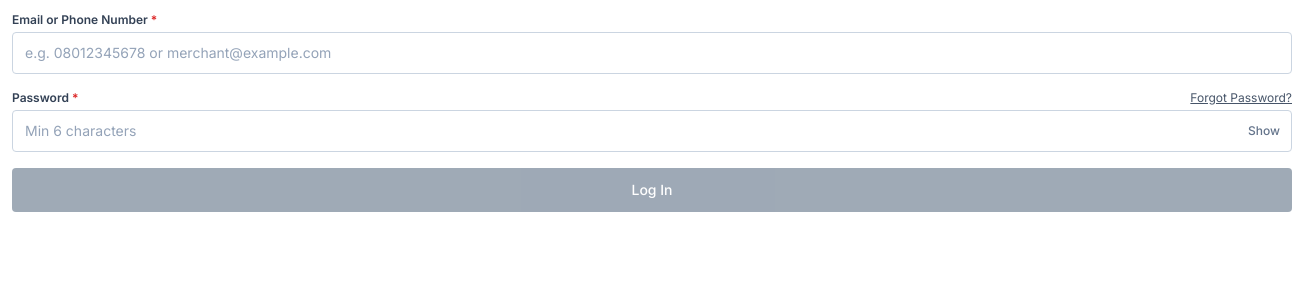
Test: Vendor Login Flow Components › Login Submission & Storage › rejects login when the backend endpoint fails
The image size is (1304, 287).
Type "07099887766" into the field labelled "Email or Phone Number *" at {"x": 652, "y": 53}, box [12,32,1292,74]
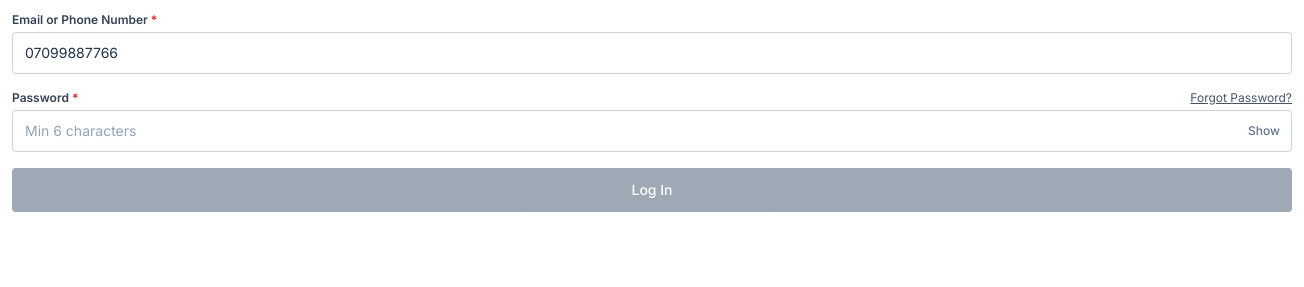
Type "password123" into the password field labelled "Password *" at {"x": 652, "y": 131}, box [12,110,1292,152]
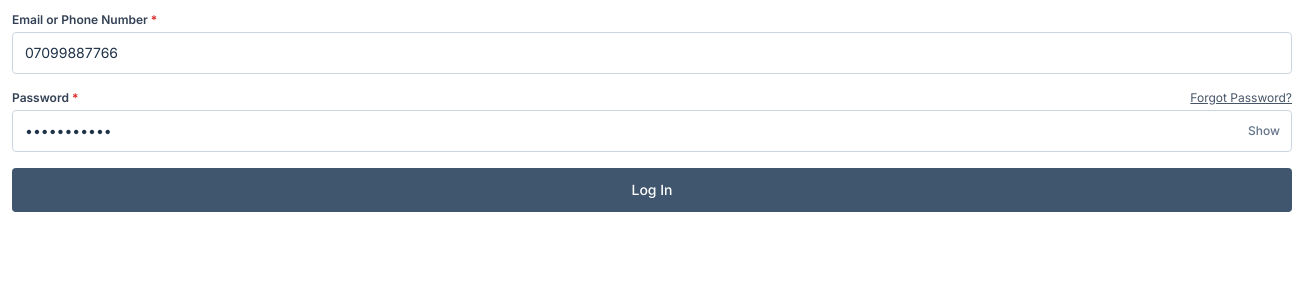
Click the button with aria-label "Login" at {"x": 652, "y": 190}, box [12,168,1292,212]
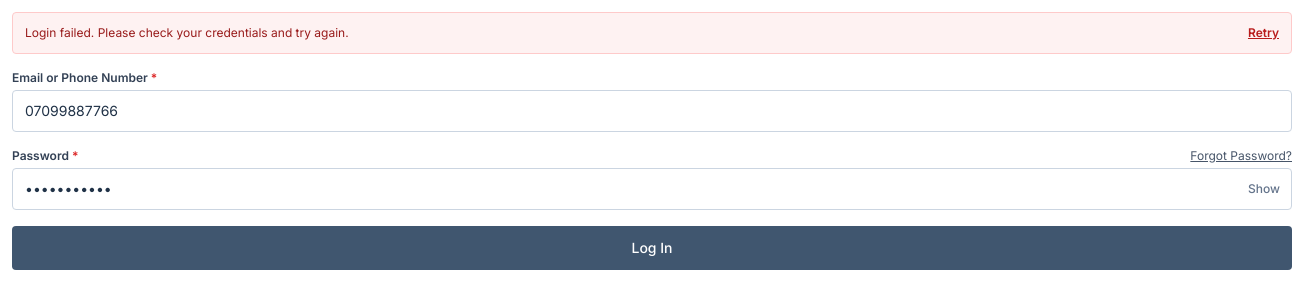
Result: the text "Login failed. Please check your credentials and try again." is shown at [25,25,349,41]
